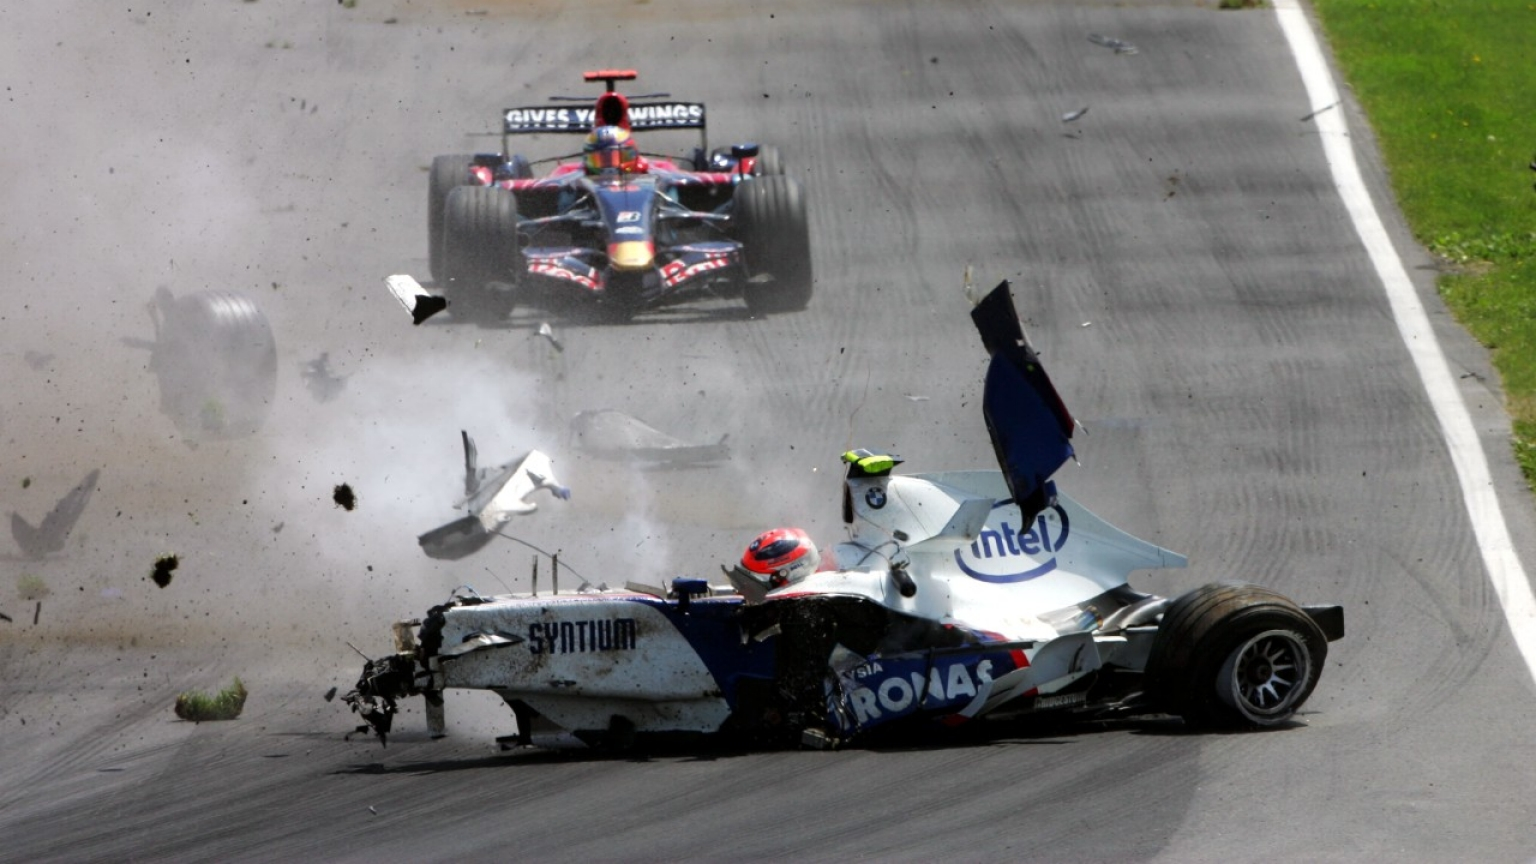f1_car: (293, 416, 1407, 796), (396, 58, 846, 351)
helmet: (730, 518, 830, 599), (571, 116, 652, 187)
